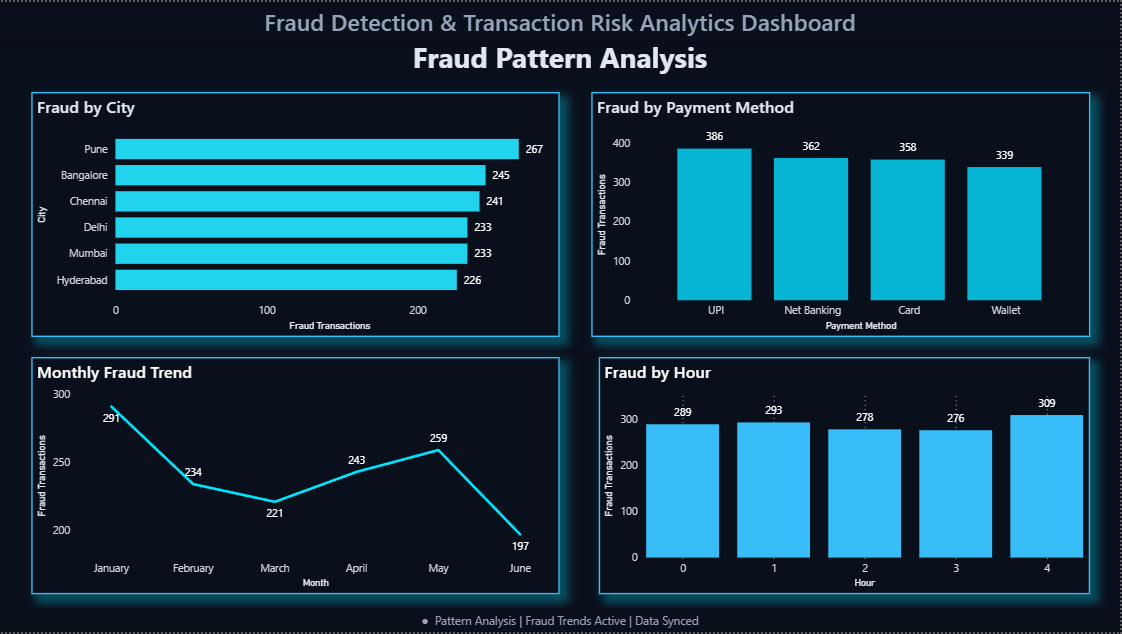

This screenshot's page, from the dashboard's own definition file:
{"tool":"powerbi","page":{"name":"Fraud Pattern Analysis","canvas":[1280,720],"ordinal":1},"visuals":[{"type":"textbox","box":[0,35.7,1280,54.3],"z":0},{"type":"textbox","box":[0,0,1280.3,50.8],"z":1000},{"type":"clusteredBarChart","title":"Fraud by City","fields":{"Category":["fraud_dashboard_dataset.location"],"Y":["fraud_dashboard_dataset.Fraud Transactions"]},"box":[36.2,102.5,603.8,280],"z":2000},{"type":"clusteredColumnChart","title":"Fraud by Payment Method","fields":{"Category":["fraud_dashboard_dataset.payment_method"],"Y":["fraud_dashboard_dataset.Fraud Transactions"]},"box":[676.2,102.5,570,280],"z":3000},{"type":"lineChart","title":"Monthly Fraud Trend","fields":{"Y":["fraud_dashboard_dataset.Fraud Transactions"],"Category":["fraud_dashboard_dataset.transaction_date.Variation.Date Hierarchy.Month"]},"box":[36.2,406.2,603.8,271.2],"z":4000},{"type":"clusteredColumnChart","title":"Fraud by Hour","fields":{"Category":["fraud_dashboard_dataset.transaction_hour"],"Y":["fraud_dashboard_dataset.Fraud Transactions"]},"box":[685,406.2,561.2,271.2],"z":5000},{"type":"textbox","box":[0,692.5,1280,27.5],"z":9000}]}

Visuals, with their boxes in screenshot pixels (x1, y1, x2, y2), scaled from the page's 1280x720 canvas onto the 1122x634 screenshot:
textbox: (left=0, top=31, right=1121, bottom=79)
textbox: (left=0, top=0, right=1121, bottom=45)
"Fraud by City" clusteredBarChart: (left=32, top=90, right=561, bottom=337)
"Fraud by Payment Method" clusteredColumnChart: (left=593, top=90, right=1092, bottom=337)
"Monthly Fraud Trend" lineChart: (left=32, top=358, right=561, bottom=596)
"Fraud by Hour" clusteredColumnChart: (left=600, top=358, right=1092, bottom=596)
textbox: (left=0, top=610, right=1121, bottom=633)
